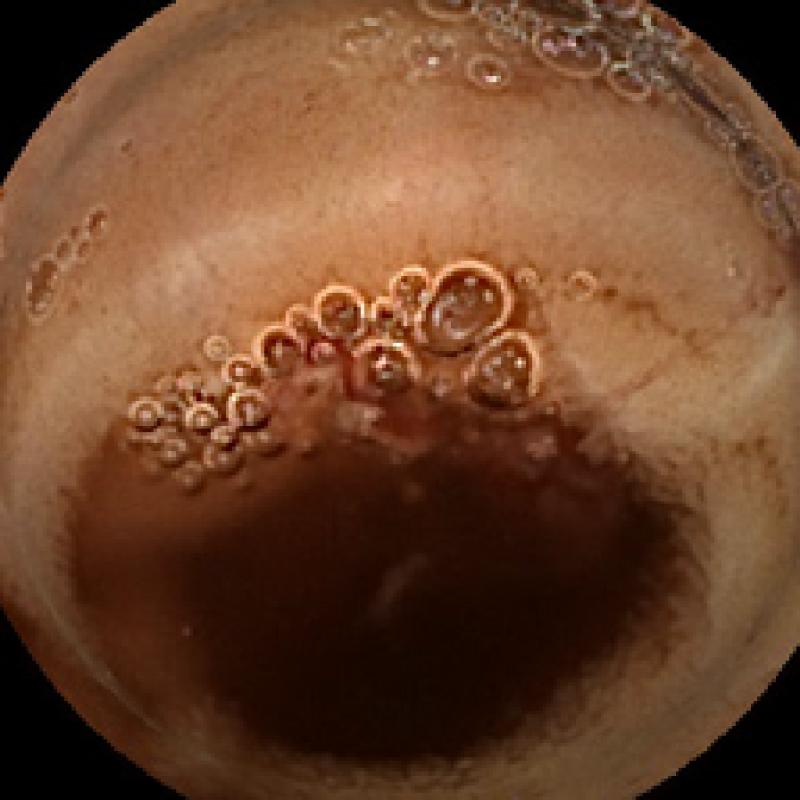bleeding: (261, 332, 575, 464)
